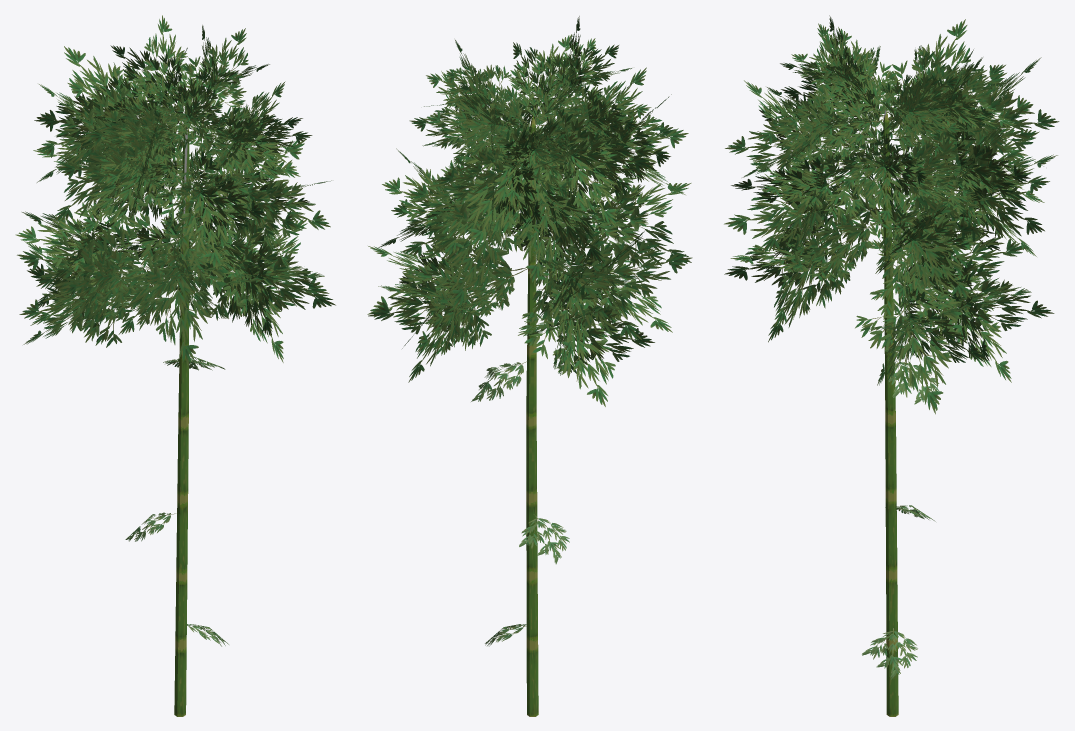
Rendered from m_bamboo03.fbx.
3 views of the same model, side by side, from view 1: azimuth 30°, elevation 25°; view 2: azimuth 150°, elevation 25°; view 3: azimuth 270°, elevation 25° (orthographic).
Visible parts, largest first — view 1: mesh_bamboo03; view 2: mesh_bamboo03; view 3: mesh_bamboo03.
Boxes of the visible parts, box(x1,y1,x2,y2) form: mesh_bamboo03: box(15, 15, 335, 716); mesh_bamboo03: box(367, 16, 692, 716); mesh_bamboo03: box(724, 15, 1059, 716).
Bounding box in the file's own units: 2.64 × 5.81 × 2.59.
